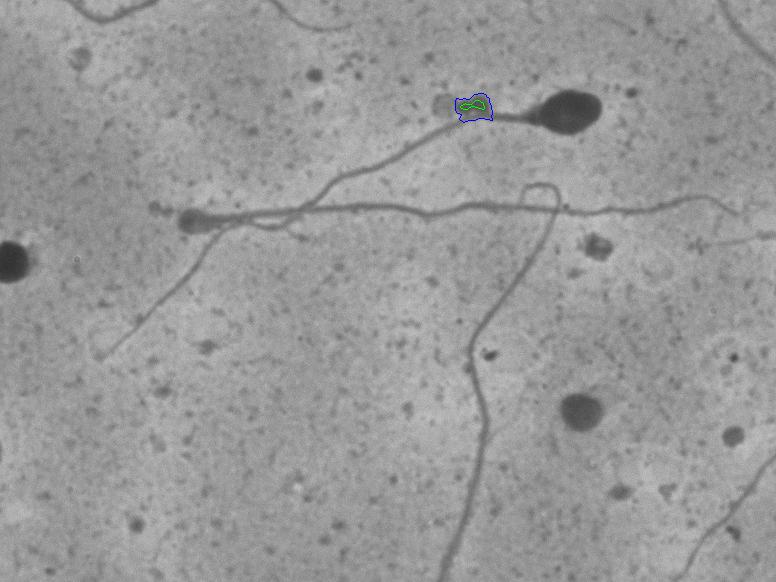Normal: (72, 62, 626, 380)
